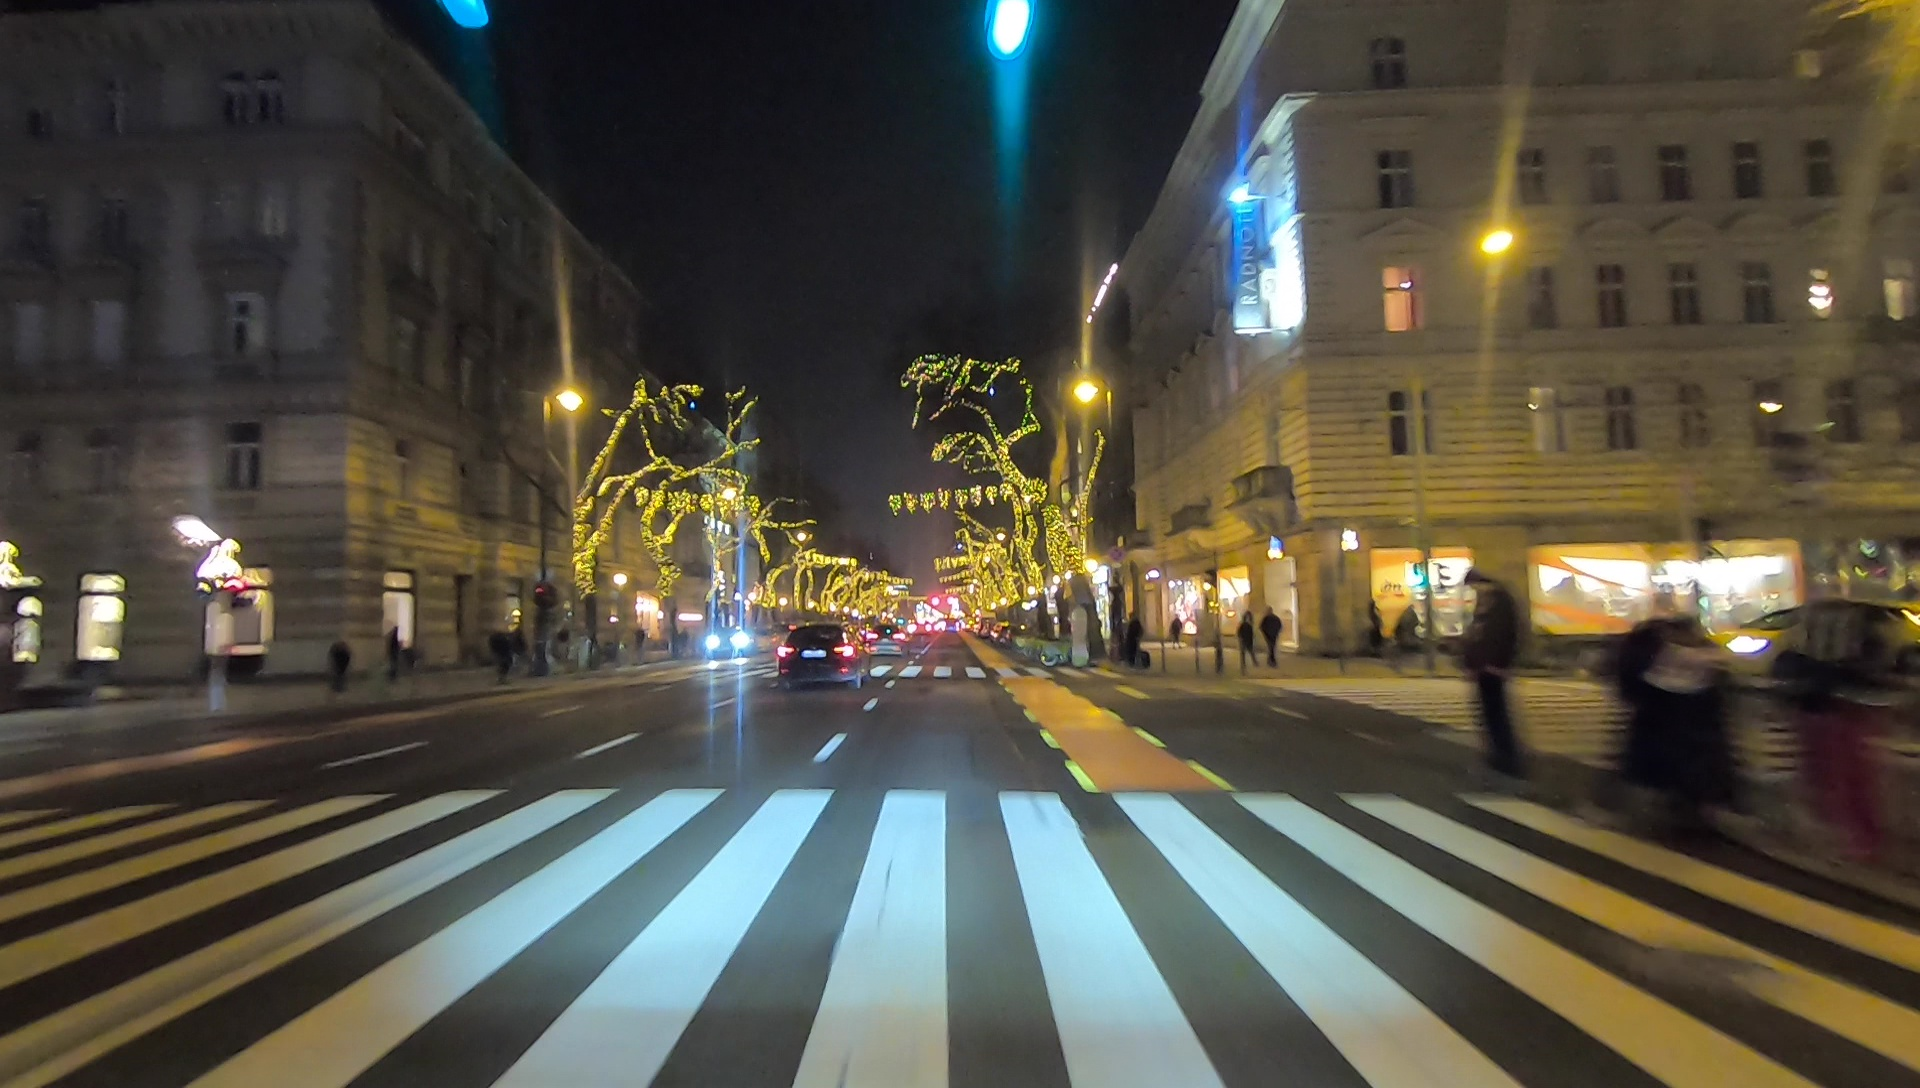person: (1614, 599, 1712, 828), (1451, 558, 1539, 786), (1397, 604, 1417, 682), (1236, 613, 1258, 684), (1264, 610, 1284, 674), (330, 645, 352, 700)
